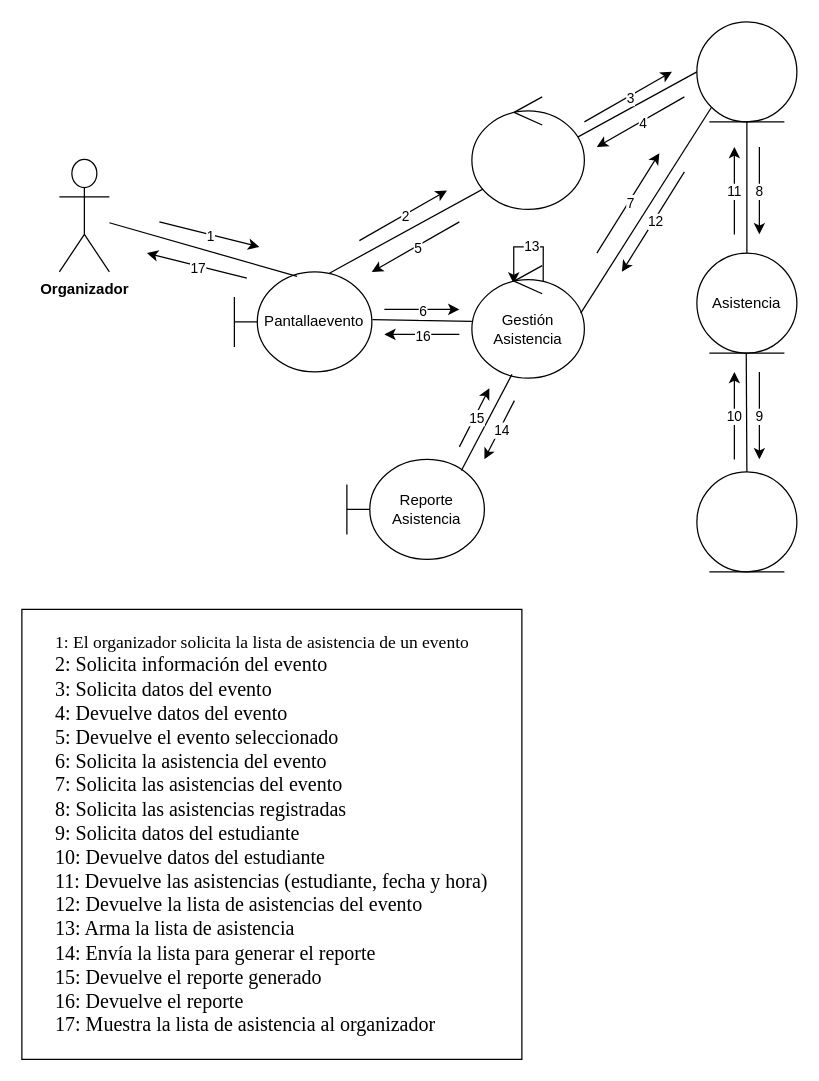
This 819x1081 diagram has some shape labels left out. Here are the shapes that lost their labels. From the top down, the box of each, then its label:
(696, 21, 797, 122): Evento
(471, 96, 584, 209): Gestión Evento
(696, 471, 797, 572): Estudiante
